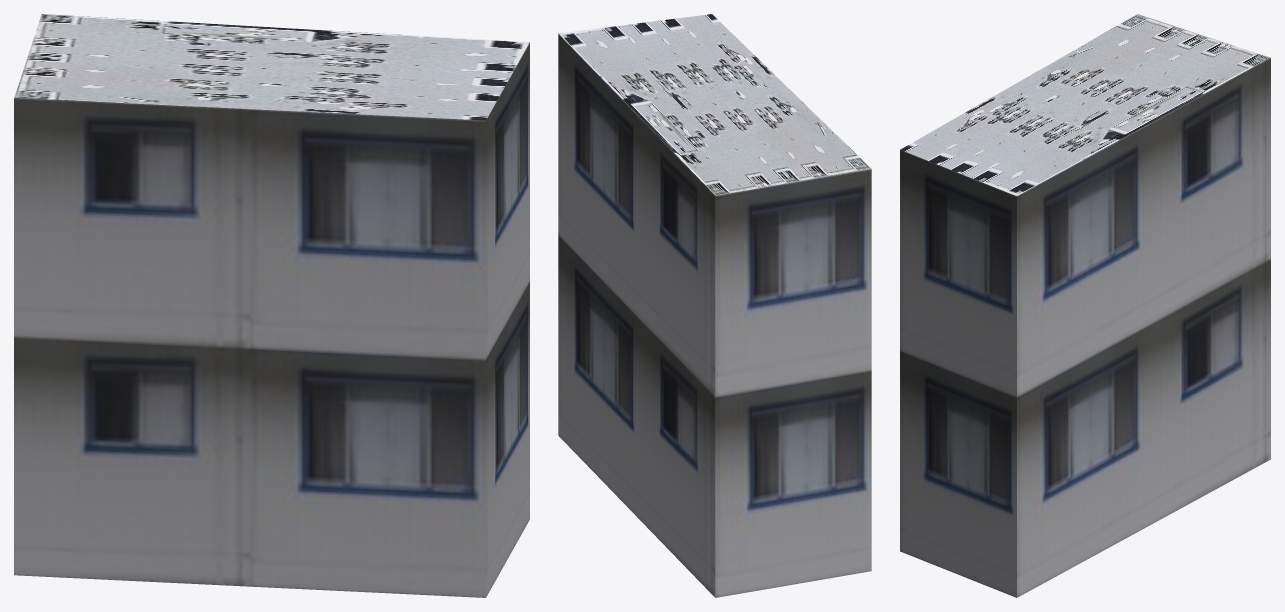
Rendered from ResTex__334.fbx.
3 renders of one model, left to right at view 1: azimuth 30°, elevation 25°; view 2: azimuth 150°, elevation 25°; view 3: azimuth 270°, elevation 25°, orthographic. The views are drawn at different scales.
Parts seen in each view (by area): view 1: CityEngineMaterial_9_m, CityEngineMaterial_4_m; view 2: CityEngineMaterial_9_m, CityEngineMaterial_4_m; view 3: CityEngineMaterial_9_m, CityEngineMaterial_4_m.
Boxes of the visible parts, left/top/right/bottom form: CityEngineMaterial_9_m: left=14, top=42, right=529, bottom=597; CityEngineMaterial_4_m: left=14, top=14, right=529, bottom=120; CityEngineMaterial_9_m: left=558, top=34, right=871, bottom=597; CityEngineMaterial_4_m: left=558, top=14, right=871, bottom=195; CityEngineMaterial_9_m: left=900, top=58, right=1270, bottom=597; CityEngineMaterial_4_m: left=900, top=14, right=1270, bottom=195.
Size of the model in its own units: 5.84 by 6 by 5.02.
2 materials, 2 textured.
